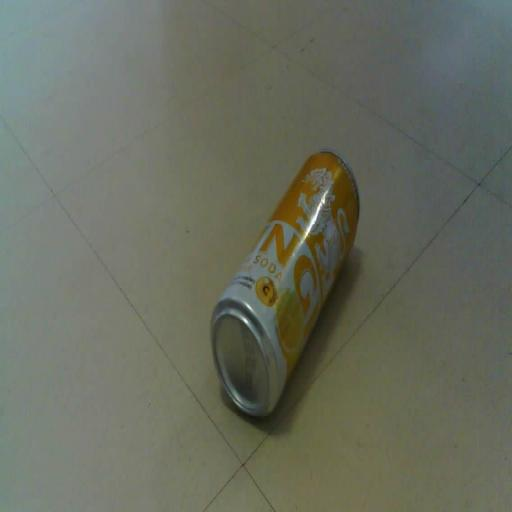canned: (201, 133, 370, 439)
